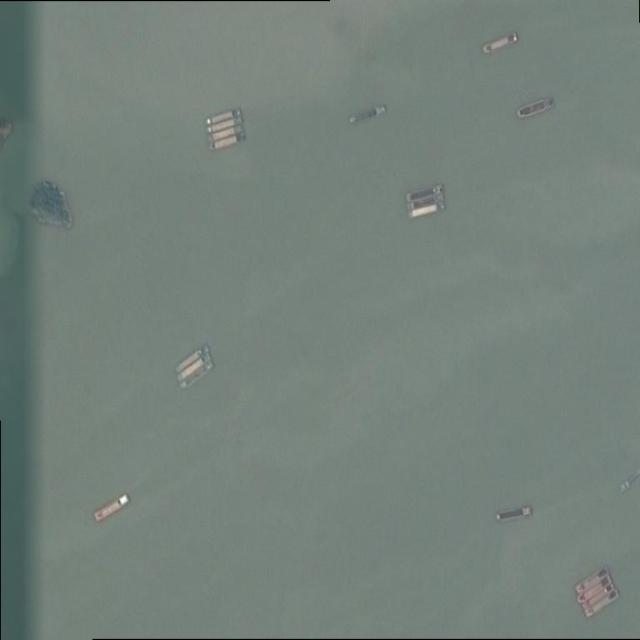ship: (176, 351, 211, 383), (94, 493, 130, 524), (175, 343, 210, 374), (586, 589, 620, 620), (182, 360, 215, 391), (578, 575, 612, 605), (583, 582, 616, 612), (576, 565, 609, 595), (348, 103, 388, 124), (519, 97, 555, 117), (485, 33, 520, 53), (408, 185, 445, 203), (409, 193, 445, 211), (207, 107, 242, 125), (211, 132, 244, 151), (209, 115, 243, 133), (410, 202, 445, 219), (212, 124, 244, 141), (498, 507, 532, 521)
